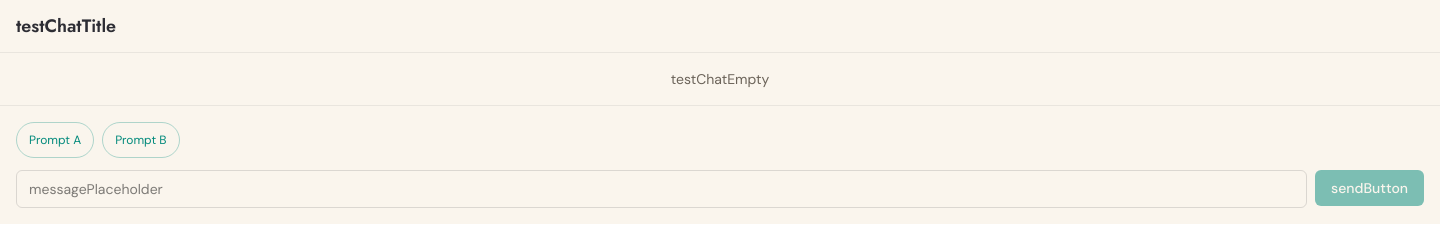
Test case: TestChatPanel quick prompt pills › quick prompt pills are hidden after a user message is sent via pill click
This screenshot has width=1440, height=241.
Click the button "Prompt A": (55, 140) [16, 122, 94, 158]
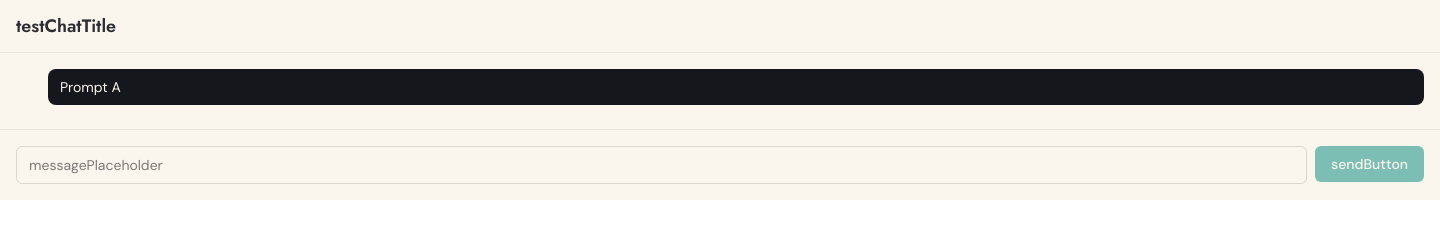
Now the button "Prompt B" is gone
